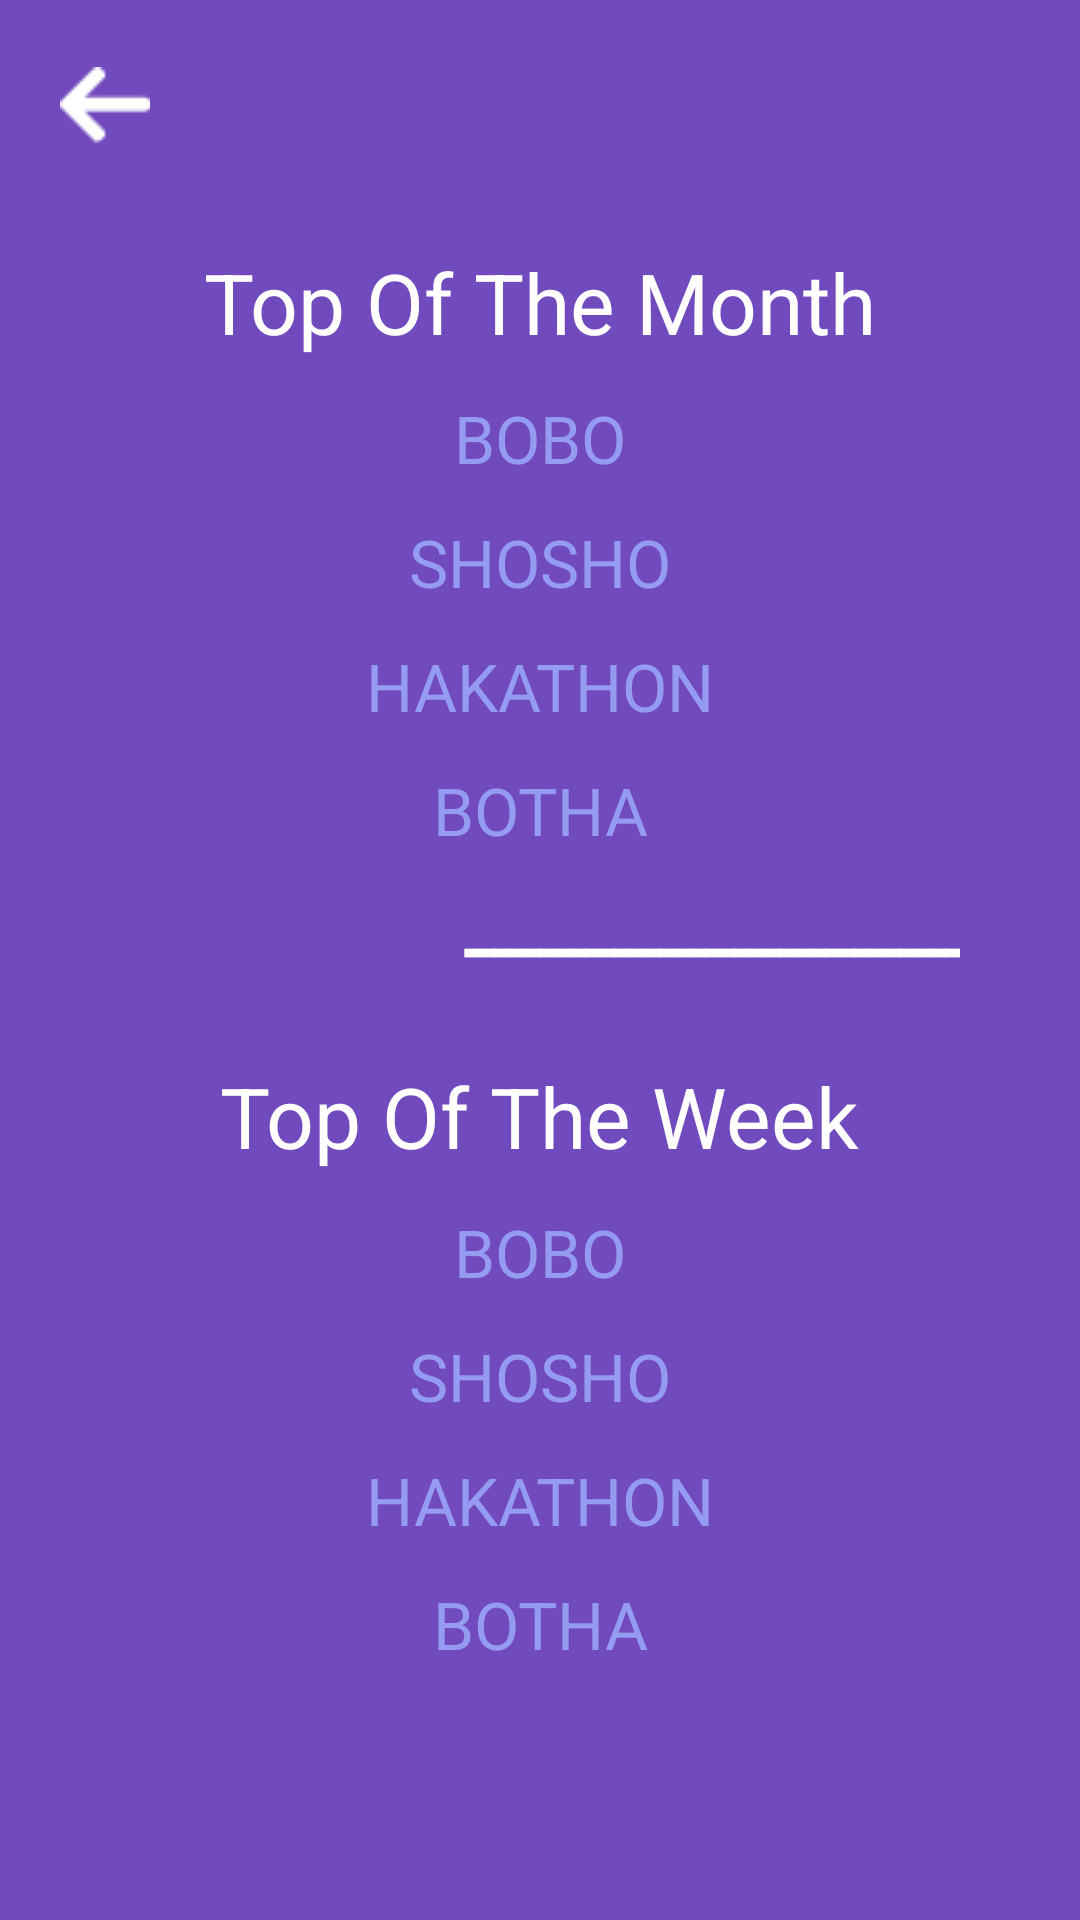

Icon click points for this 1080px x 1920px phone screenshot, format [x,y]:
back: [105,105]
